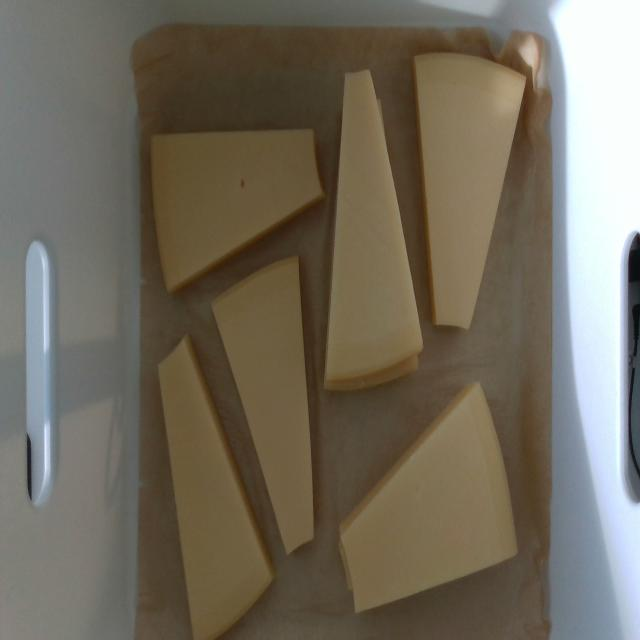Cheese: (340, 384, 516, 611), (160, 341, 272, 639), (415, 53, 524, 328), (326, 71, 422, 380), (213, 257, 312, 553), (152, 131, 324, 290)
